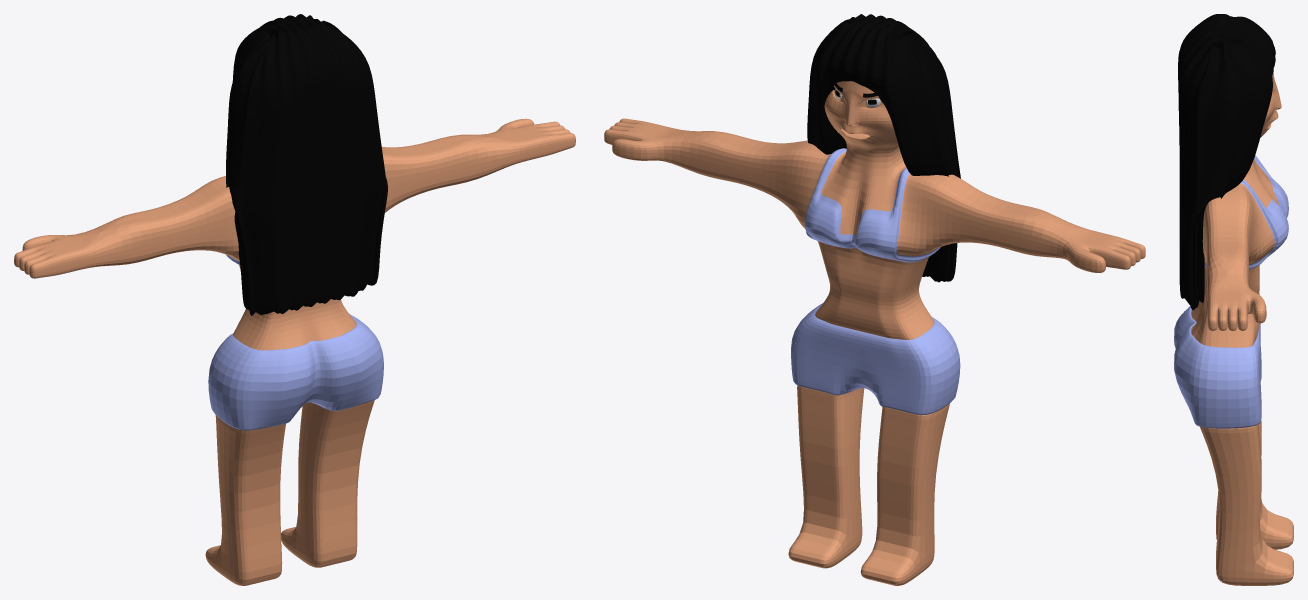
The model's file is FNPC3.fbx.
3 views of the same model, side by side, from view 1: azimuth 30°, elevation 25°; view 2: azimuth 150°, elevation 25°; view 3: azimuth 270°, elevation 25° (orthographic). The views are drawn at different scales.
Parts seen in each view (by area): view 1: FNPC3; view 2: FNPC3; view 3: FNPC3.
Part boxes in pixels (box(x1,y1,x2,y2)): FNPC3: box(14, 14, 575, 585); FNPC3: box(604, 14, 1145, 585); FNPC3: box(1174, 14, 1293, 585).
Bounding box in the file's own units: 165 × 160 × 32.34.
